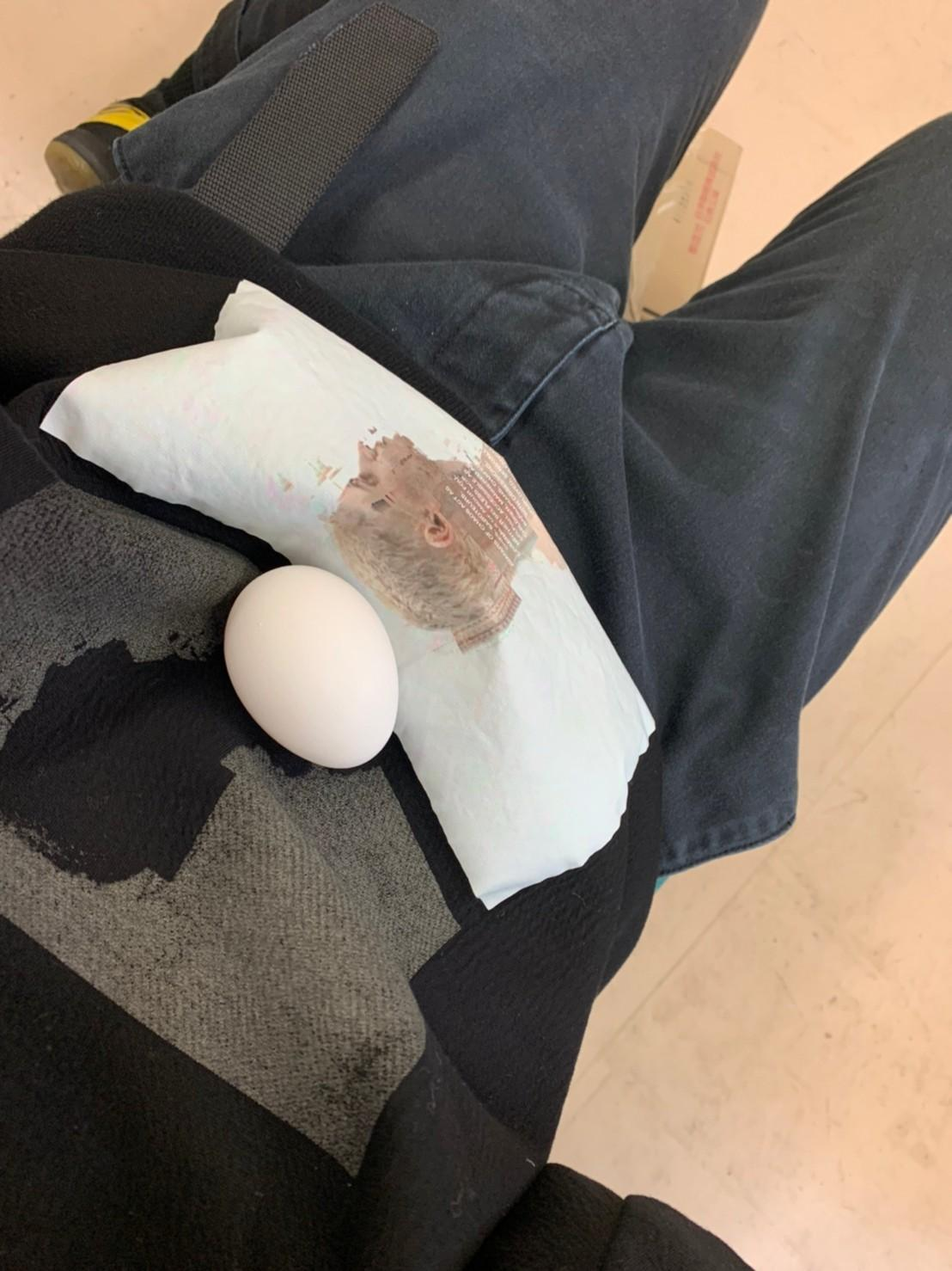egg: (207, 557, 411, 773)
